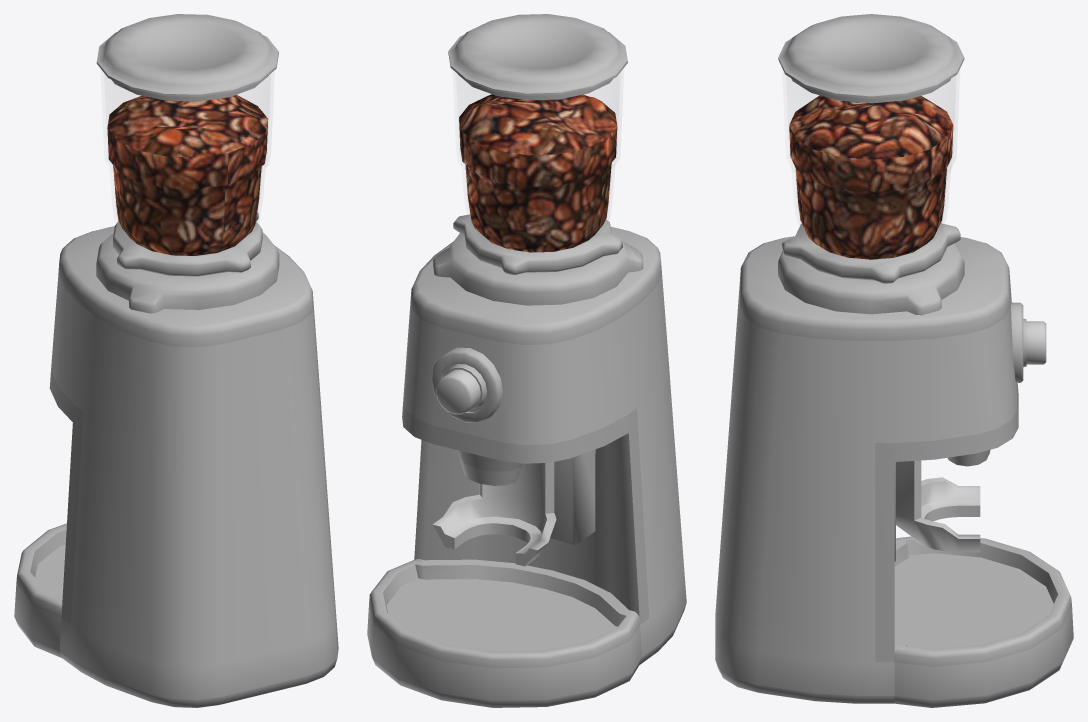
Rendered from Machine_Grinder.fbx.
3 renders of one model, left to right at view 1: azimuth 30°, elevation 25°; view 2: azimuth 150°, elevation 25°; view 3: azimuth 270°, elevation 25°, orthographic. The views are drawn at different scales.
Parts seen in each view (by area): view 1: Grinder; view 2: Grinder, Grinder_Deposit, Grinder_Button; view 3: Grinder, Grinder_Deposit, Grinder_Button.
Boxes of the visible parts, x1=… form: Grinder: x1=14, y1=14, x2=338, y2=707; Grinder: x1=367, y1=14, x2=686, y2=707; Grinder_Deposit: x1=432, y1=462, x2=556, y2=566; Grinder_Button: x1=431, y1=347, x2=502, y2=422; Grinder: x1=715, y1=14, x2=1073, y2=707; Grinder_Deposit: x1=896, y1=460, x2=980, y2=552; Grinder_Button: x1=1011, y1=302, x2=1046, y2=382.
Size of the model in its own units: 0.2766 by 0.3369 by 0.6258.
